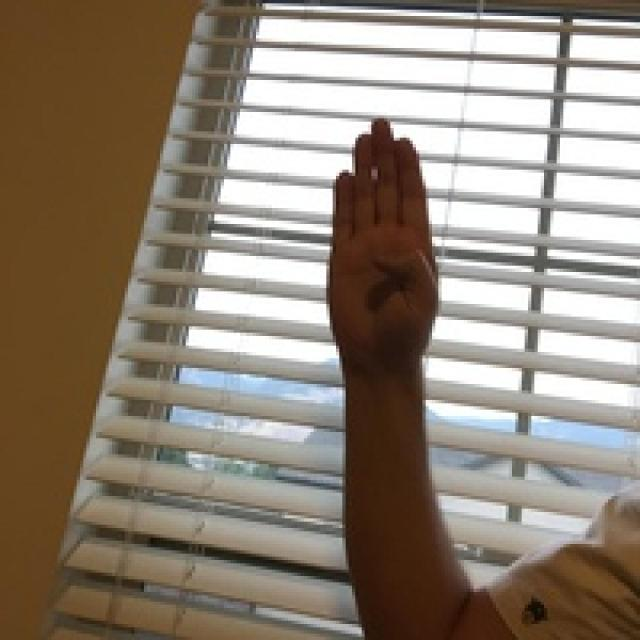B: (282, 99, 474, 391)
